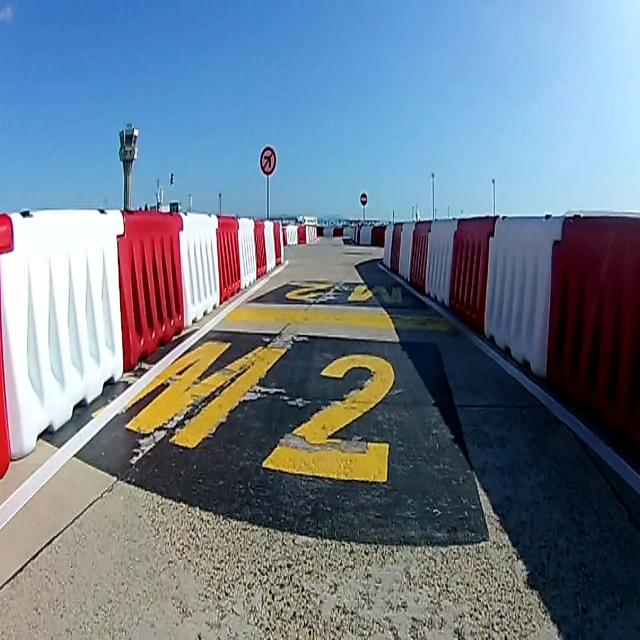soladonulmez: (260, 147, 276, 174)
